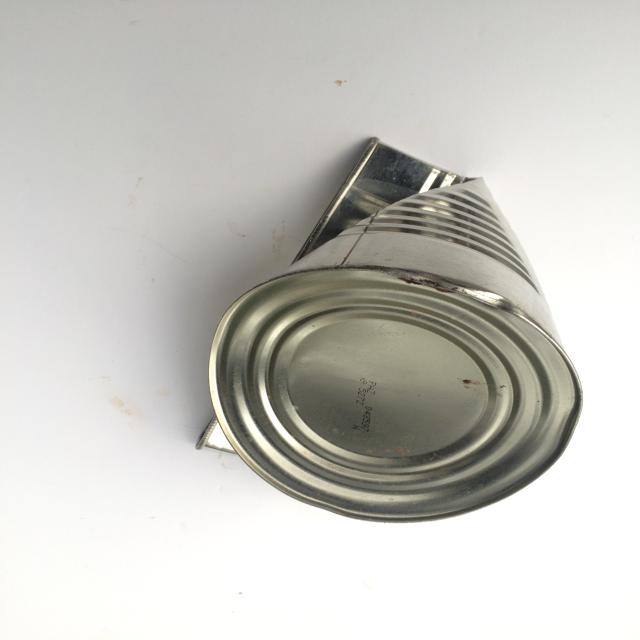metal: (196, 137, 584, 523)
